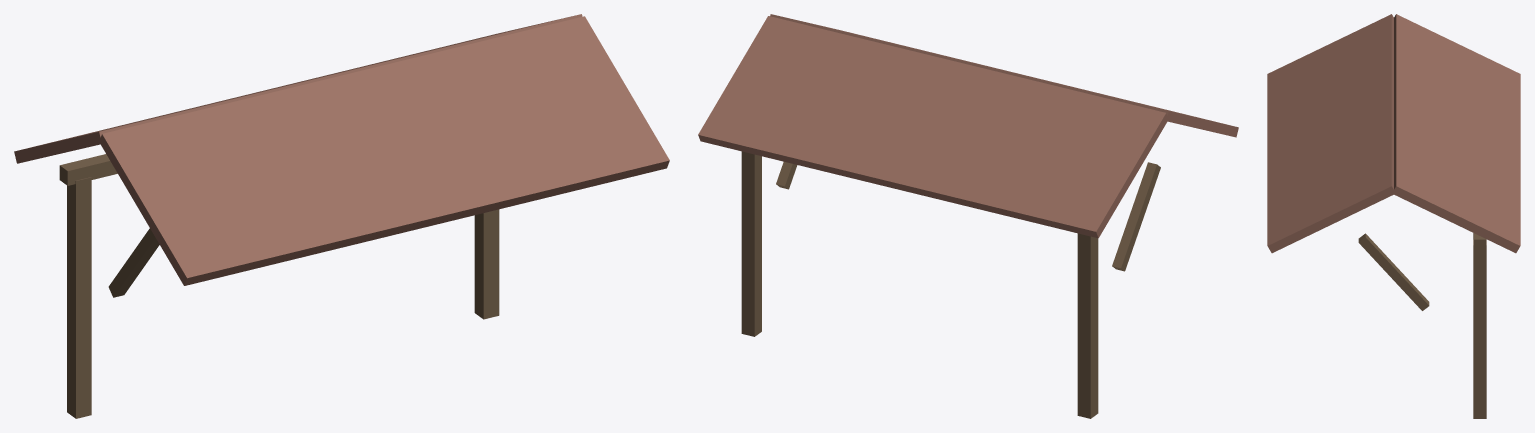
Rendered from stand_roof.glb.
3 renders of one model, left to right at view 1: azimuth 30°, elevation 25°; view 2: azimuth 150°, elevation 25°; view 3: azimuth 270°, elevation 25°, orthographic. The views are drawn at different scales.
Parts seen in each view (by area): view 1: stand_roof; view 2: stand_roof; view 3: stand_roof.
Part boxes in pixels (left/top/right/bottom): stand_roof: left=14, top=14, right=669, bottom=418; stand_roof: left=698, top=14, right=1238, bottom=418; stand_roof: left=1267, top=14, right=1520, bottom=418.
Size of the model in its own units: 6.16 by 4.06 by 3.83.
